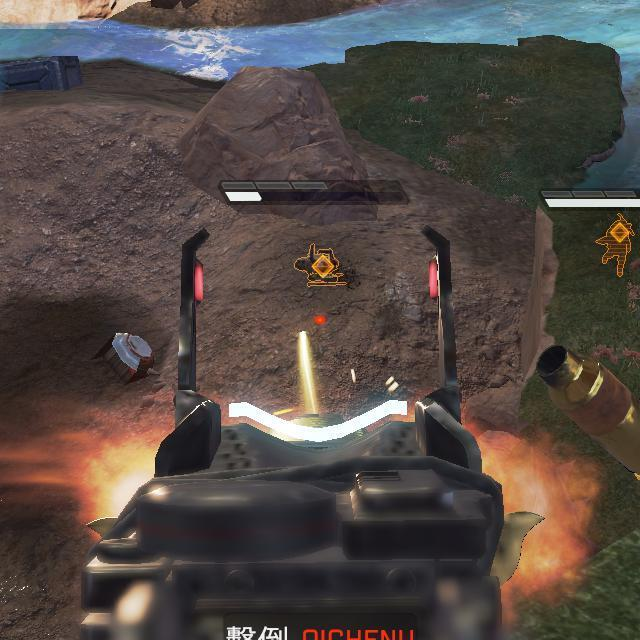avatar: (596, 211, 637, 279), (295, 239, 349, 290)
object: (310, 255, 336, 281), (609, 220, 631, 245)
